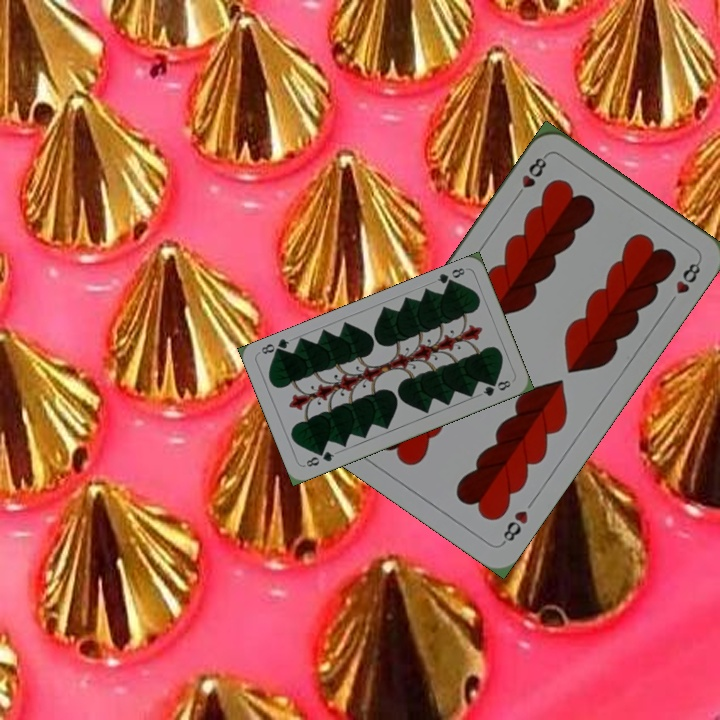G8: (433, 263, 467, 289), (302, 447, 337, 470)
H8: (510, 151, 550, 202), (498, 506, 531, 547)
